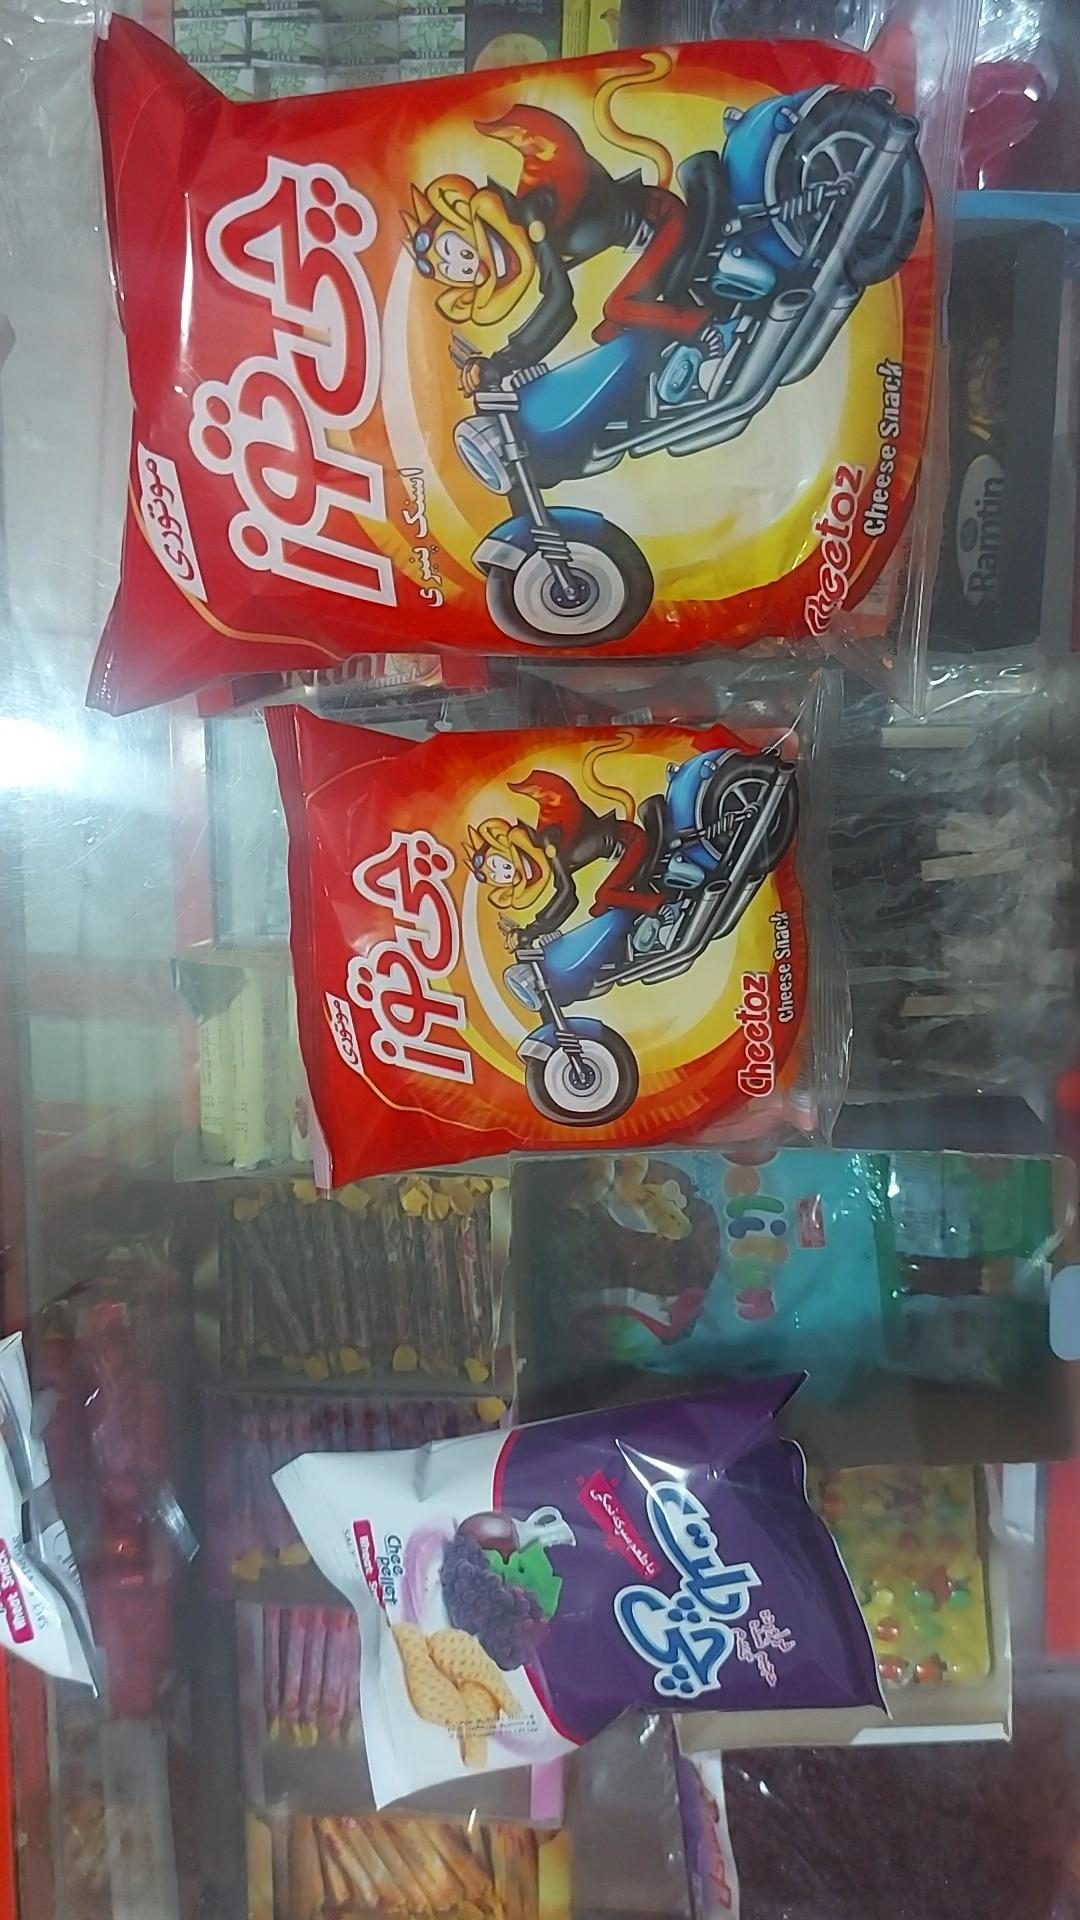Chee pellet vinegar: (274, 1375, 884, 1808)
Cheetoz snack 30g: (265, 705, 851, 1189)
Cheetoz snack 90g: (87, 0, 978, 713)
